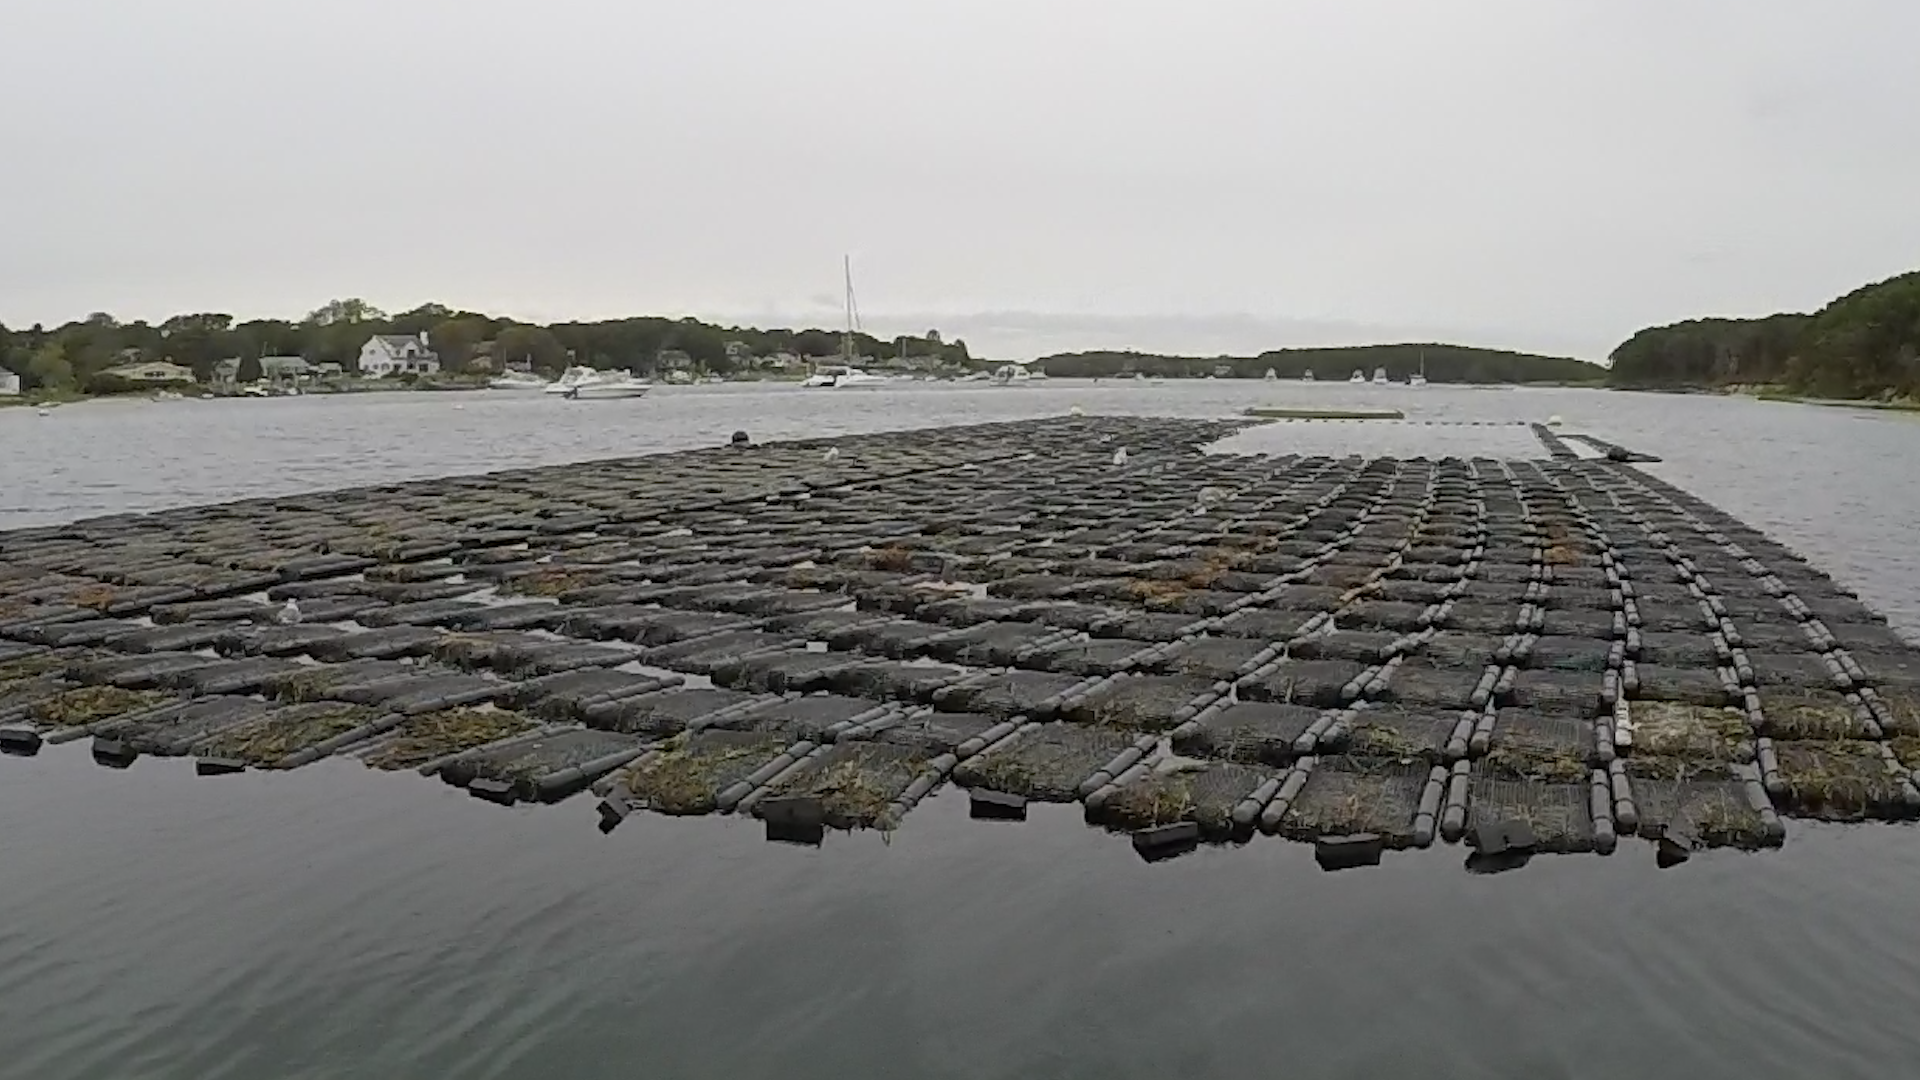bag: (738, 741, 953, 845), (415, 721, 674, 806), (584, 729, 824, 814), (165, 695, 415, 775), (1259, 750, 1447, 853), (945, 716, 1160, 804), (1604, 752, 1785, 855), (1077, 745, 1288, 833), (1439, 760, 1615, 861), (1753, 735, 1920, 825)
